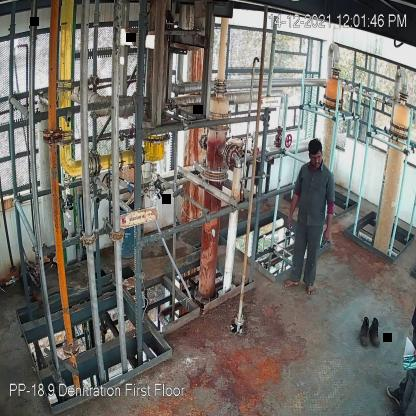no_shoes: (304, 284, 315, 298), (282, 278, 299, 287)
shoes: (358, 315, 373, 348), (370, 318, 382, 346)
